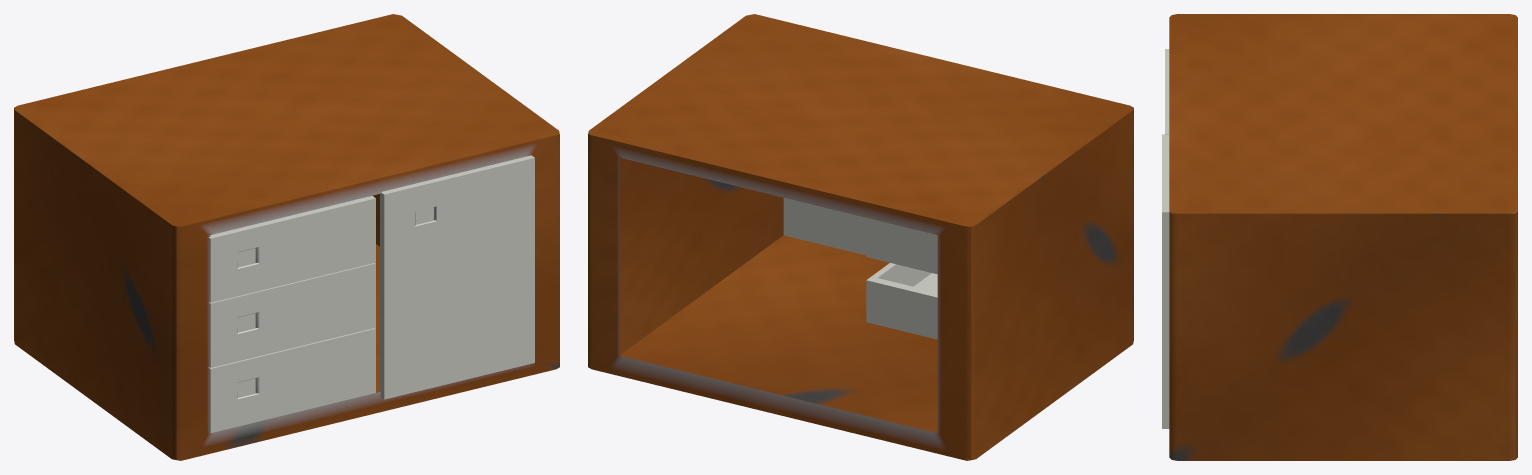
Rendered from table with drawers.fbx.
3 views of the same model, side by side, from view 1: azimuth 30°, elevation 25°; view 2: azimuth 150°, elevation 25°; view 3: azimuth 270°, elevation 25° (orthographic). The views are drawn at different scales.
Visible parts, largest first — view 1: pCube12, pCube23, pCube22, pCube187, pCube186; view 2: pCube12, pCube187, pCube23, pCube186; view 3: pCube12, pCube23, pCube22.
Part boxes in pixels (bbox=[...]): pCube12: bbox=[14, 14, 559, 460]; pCube23: bbox=[380, 155, 534, 399]; pCube22: bbox=[208, 195, 375, 302]; pCube187: bbox=[208, 328, 375, 433]; pCube186: bbox=[208, 263, 375, 367]; pCube12: bbox=[588, 14, 1133, 460]; pCube187: bbox=[866, 263, 937, 339]; pCube23: bbox=[783, 198, 866, 255]; pCube186: bbox=[866, 218, 937, 274]; pCube12: bbox=[1169, 14, 1517, 460]; pCube23: bbox=[1162, 134, 1169, 428]; pCube22: bbox=[1165, 49, 1169, 134].
Bounding box in the file's own units: 186 × 107 × 140.
